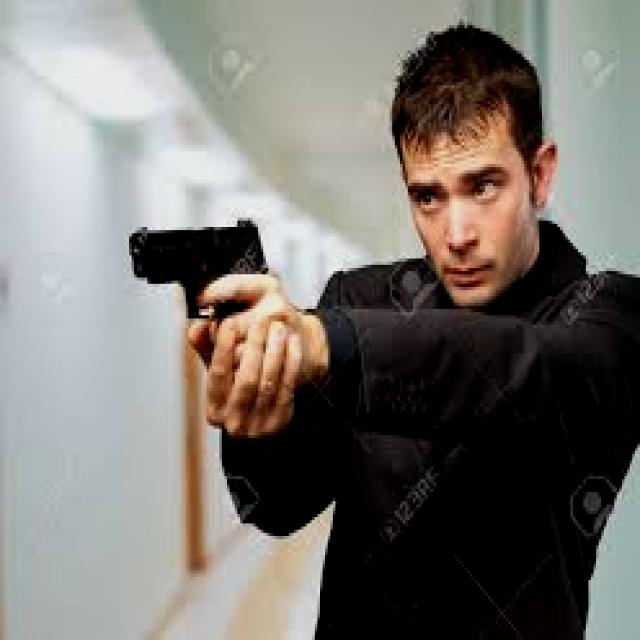pistol: (122, 208, 268, 328)
